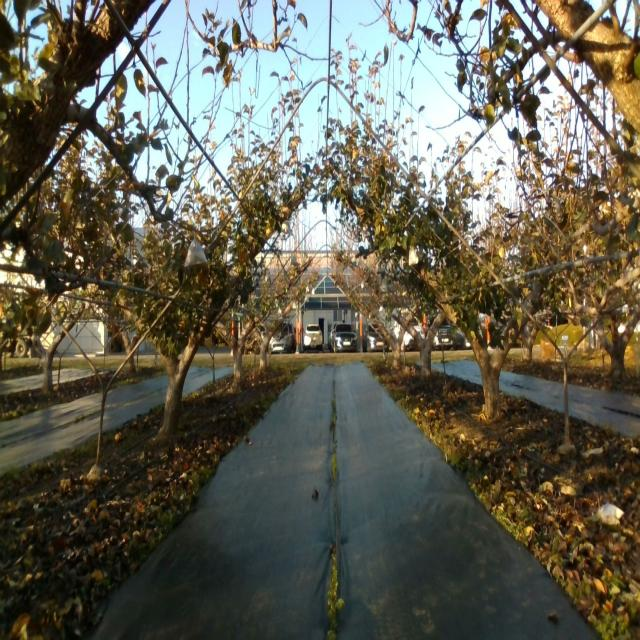pearbags: (183, 238, 208, 266), (408, 246, 418, 265)
